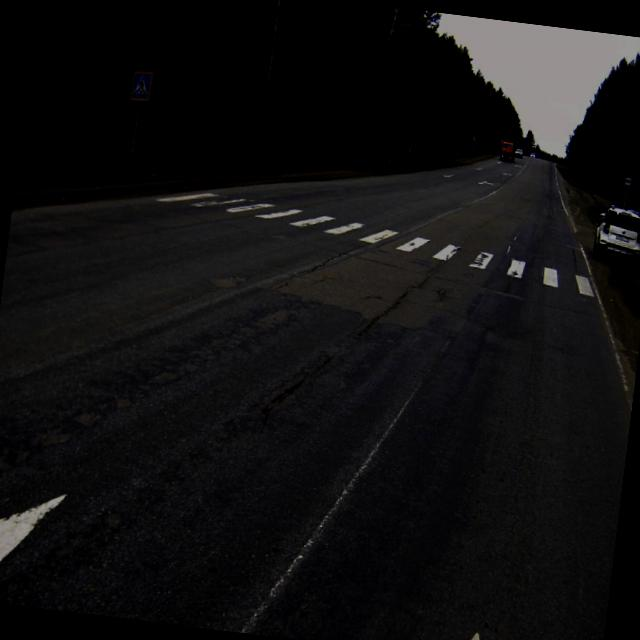road: (0, 155, 634, 640)
